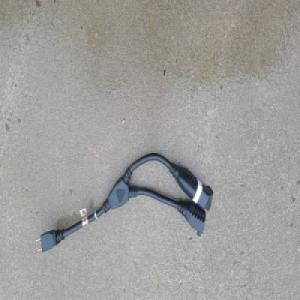Wire: (34, 151, 214, 254)
